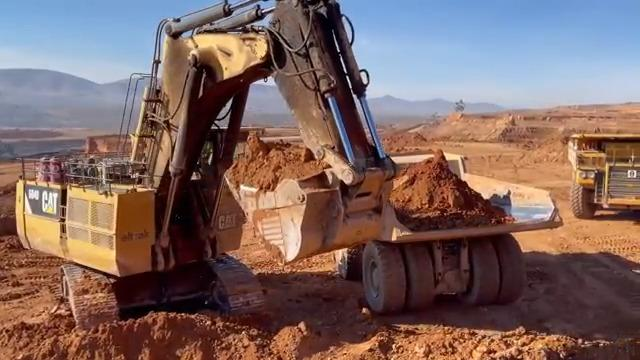excavator: (16, 0, 400, 281)
